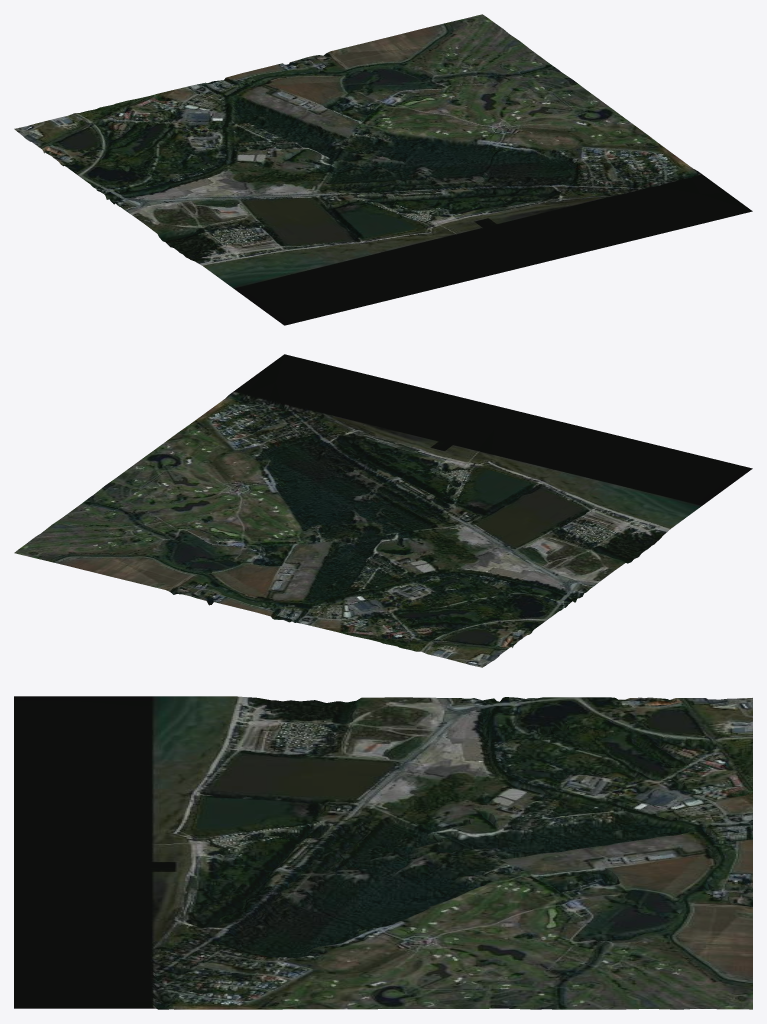
The model's file is map_10_255_427.dae.
3 renders of one model, top to bottom at view 1: azimuth 30°, elevation 25°; view 2: azimuth 150°, elevation 25°; view 3: azimuth 270°, elevation 25°, orthographic. The views are drawn at different scales.
Parts seen in each view (by area): view 1: Ter0; view 2: Ter0; view 3: Ter0.
Boxes of the visible parts, left/top/right/bottom form: Ter0: left=14, top=14, right=752, bottom=325; Ter0: left=14, top=354, right=752, bottom=667; Ter0: left=14, top=696, right=752, bottom=1009.
Bounding box in the file's own units: 2044 × 2044 × 28.5.
Materials: 3 (3 with a texture image).
